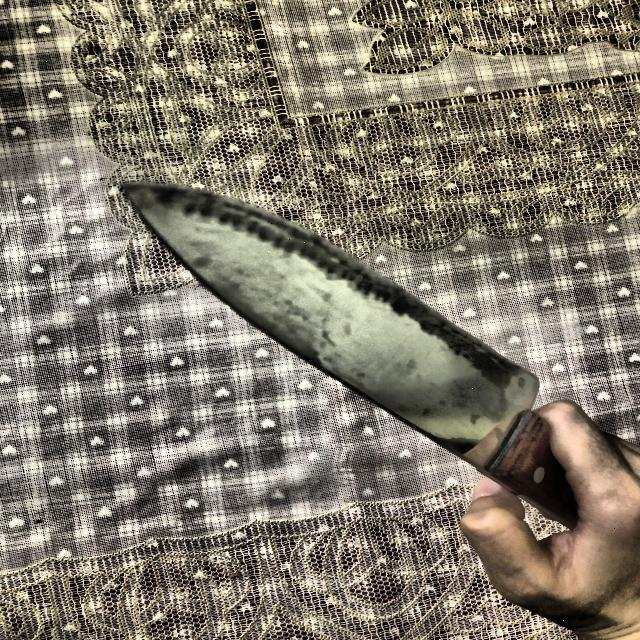knife: (120, 182, 580, 530)
